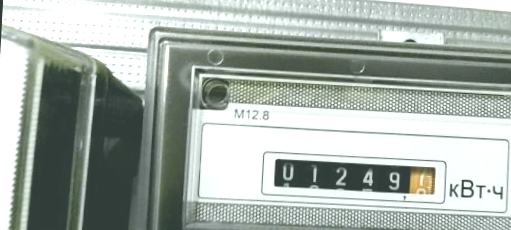0: (280, 160, 295, 181)
1: (306, 162, 320, 183)
2: (331, 164, 348, 187)
4: (360, 165, 374, 186)
7: (414, 165, 429, 186)
9: (386, 169, 400, 190)
screen: (257, 146, 450, 206)
